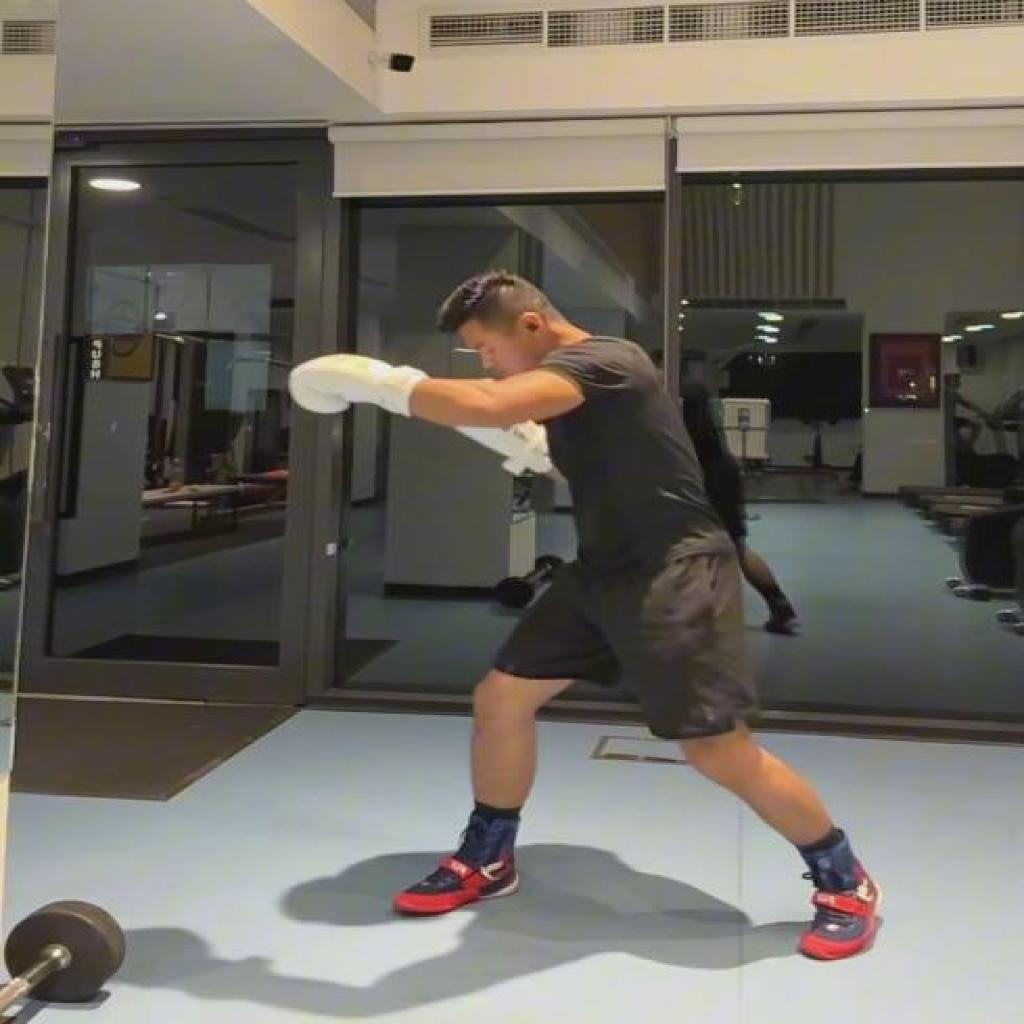bag: (293, 270, 886, 965)
